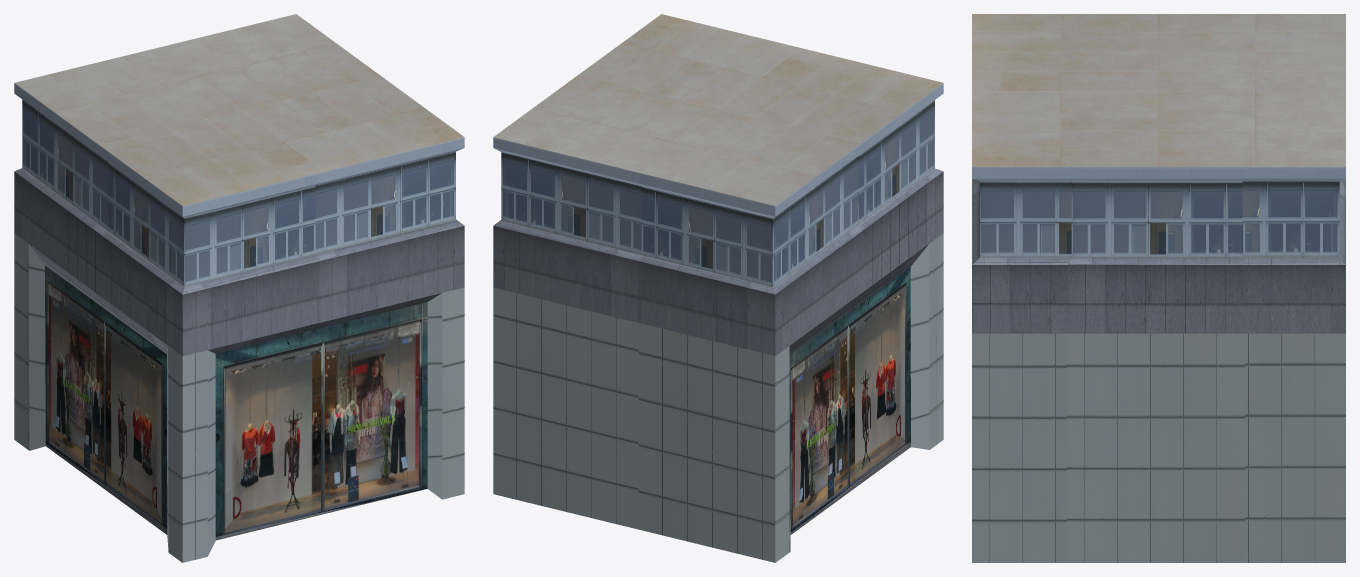
The model's file is house base.FBX.
3 views of the same model, side by side, from view 1: azimuth 30°, elevation 25°; view 2: azimuth 150°, elevation 25°; view 3: azimuth 270°, elevation 25° (orthographic). The views are drawn at different scales.
Visible parts, largest first — view 1: Box001; view 2: Box001; view 3: Box001.
Boxes of the visible parts, <box> form: Box001: <box>14,14,464,562</box>; Box001: <box>493,14,943,562</box>; Box001: <box>972,14,1345,562</box>.
Bounding box in the file's own units: 77.42 × 93.57 × 80.
